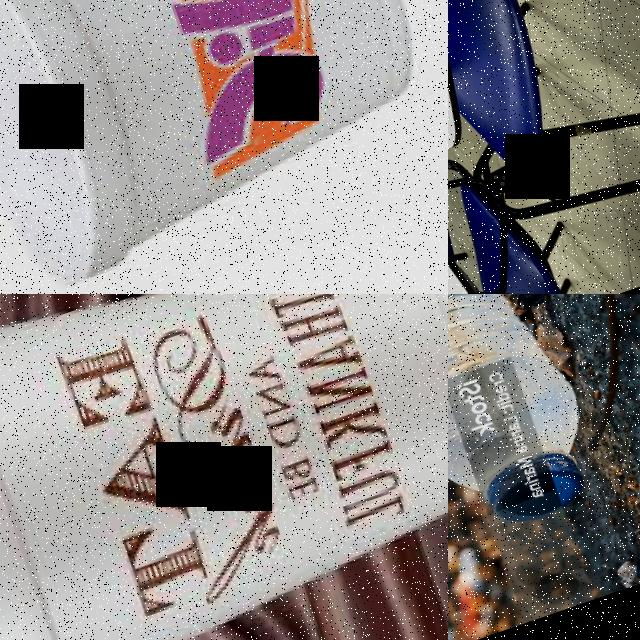cup: (0, 294, 448, 640), (0, 0, 448, 294)
